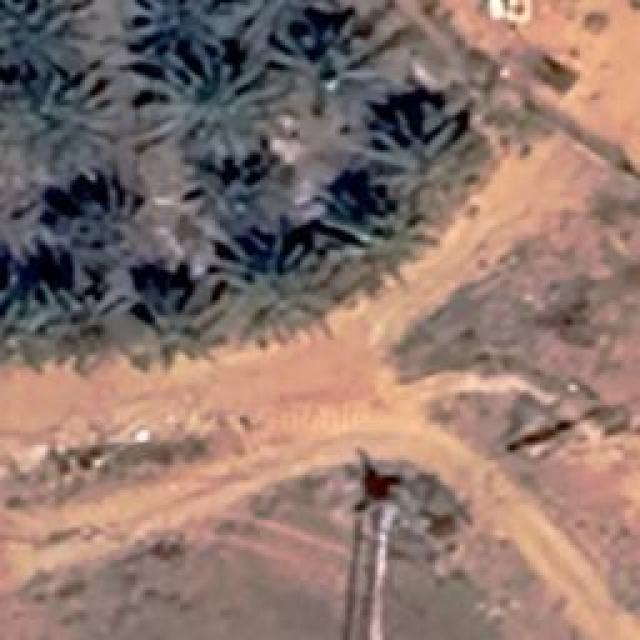PalmTree: (135, 48, 270, 168), (362, 100, 482, 218), (210, 230, 330, 345), (12, 65, 128, 180), (265, 8, 390, 110), (191, 148, 300, 245), (0, 254, 105, 340), (321, 186, 404, 289), (124, 266, 202, 362), (65, 185, 150, 270), (125, 0, 250, 48), (1, 0, 74, 68)
